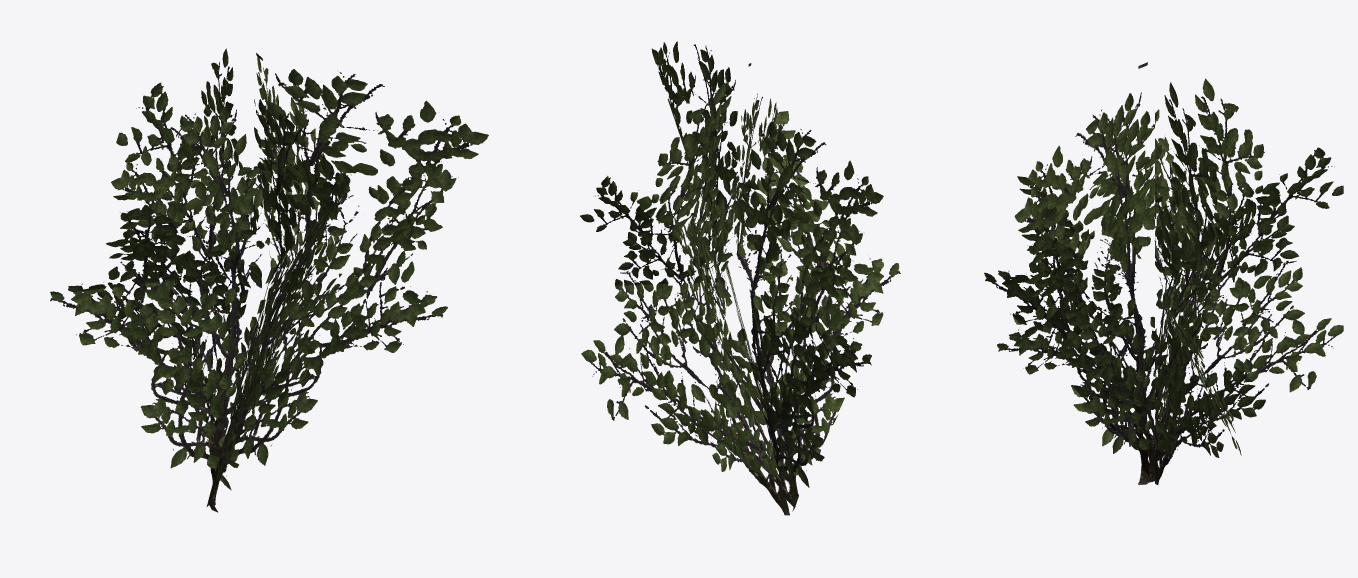
The model's file is TK_krzak_buk.obj.
The picture shows the model from 3 angles, left to right: view 1: azimuth 30°, elevation 25°; view 2: azimuth 150°, elevation 25°; view 3: azimuth 270°, elevation 25°; orthographic projection. The views are drawn at different scales.
Bounding box in the file's own units: 2.12 × 2.28 × 1.7.
